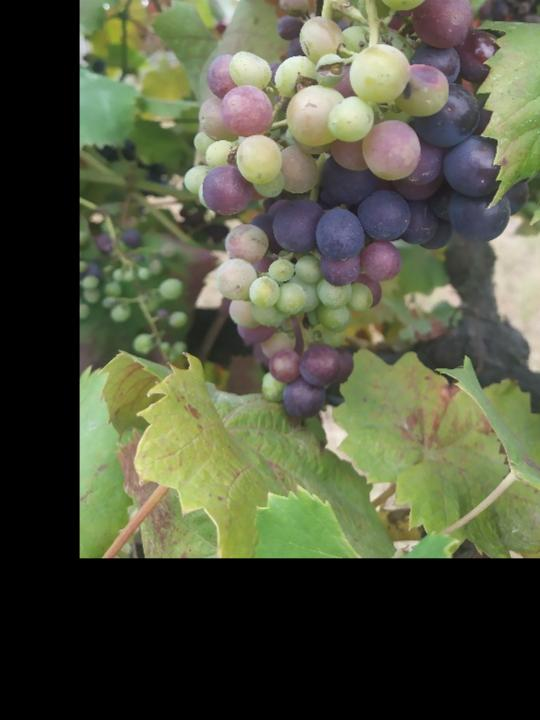grape: (188, 0, 527, 418)
